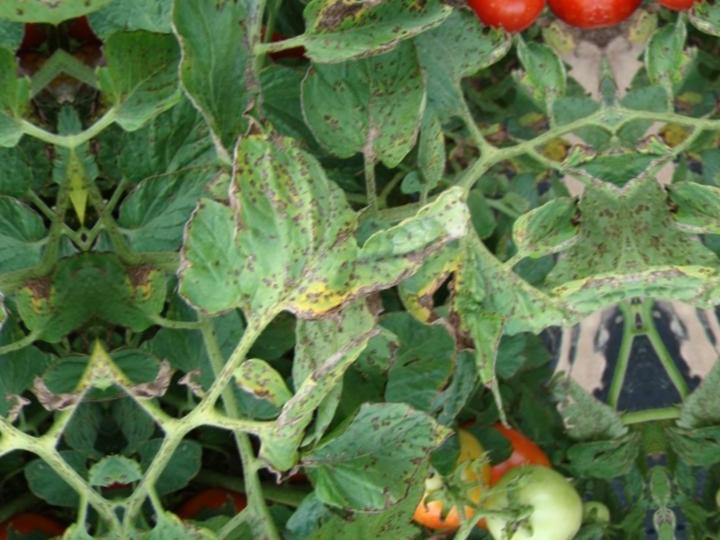Tomato leaf bacterial spot: (153, 111, 475, 369), (285, 12, 443, 192), (431, 226, 637, 362), (279, 382, 472, 522), (161, 0, 276, 170), (287, 0, 468, 83), (509, 193, 595, 269)
